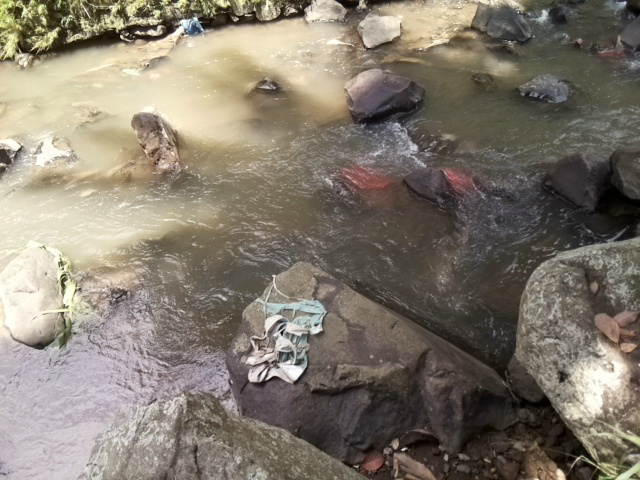Sampah_Plastik: (241, 294, 331, 385), (176, 17, 207, 37)
